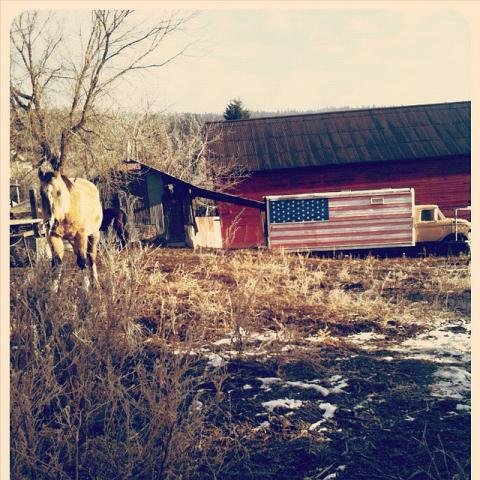truck: (258, 190, 476, 264)
